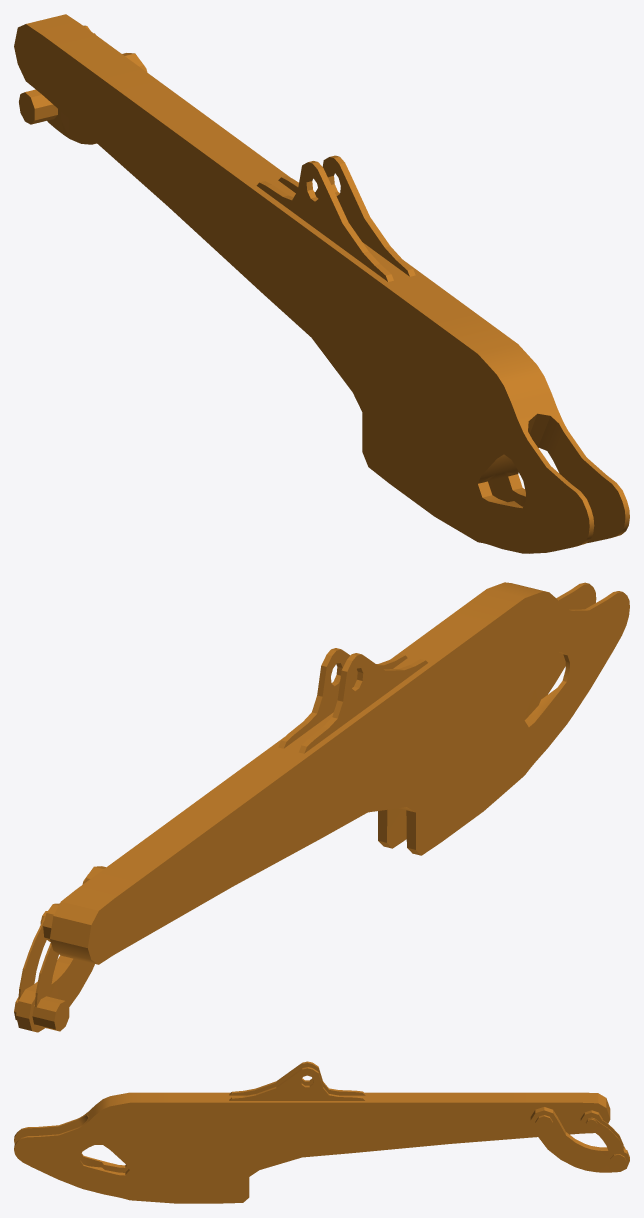
The model's file is CAT302_Stick.obj.
3 views of the same model, one above another, from view 1: azimuth 30°, elevation 25°; view 2: azimuth 150°, elevation 25°; view 3: azimuth 270°, elevation 25° (orthographic). The views are drawn at different scales.
Visible parts, largest first — view 1: Stick; view 2: Stick; view 3: Stick.
Boxes of the visible parts, bbox=[...] form: Stick: bbox=[14, 14, 629, 553]; Stick: bbox=[14, 582, 629, 1032]; Stick: bbox=[14, 1061, 629, 1203].
Bounding box in the file's own units: 0.2463 × 0.9632 × 4.03.
